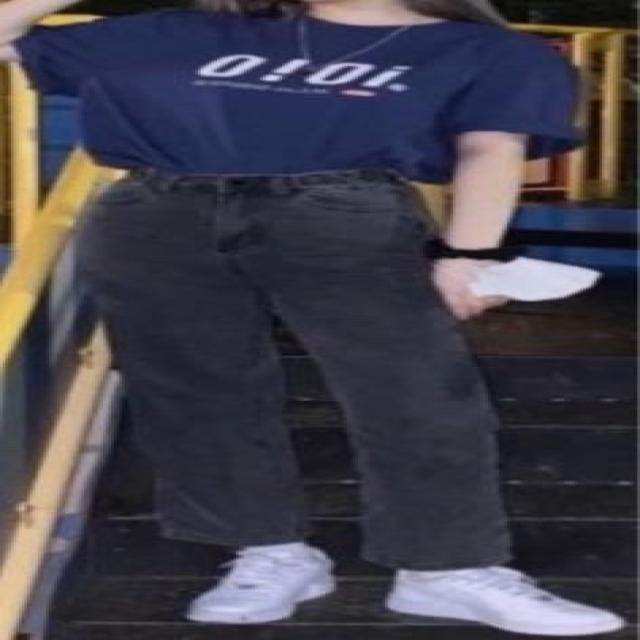denimpants: (70, 174, 516, 565)
shortsleeve: (4, 4, 566, 182)
